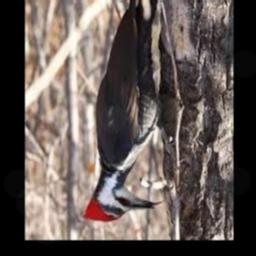Woodpecker: (83, 0, 164, 221)
